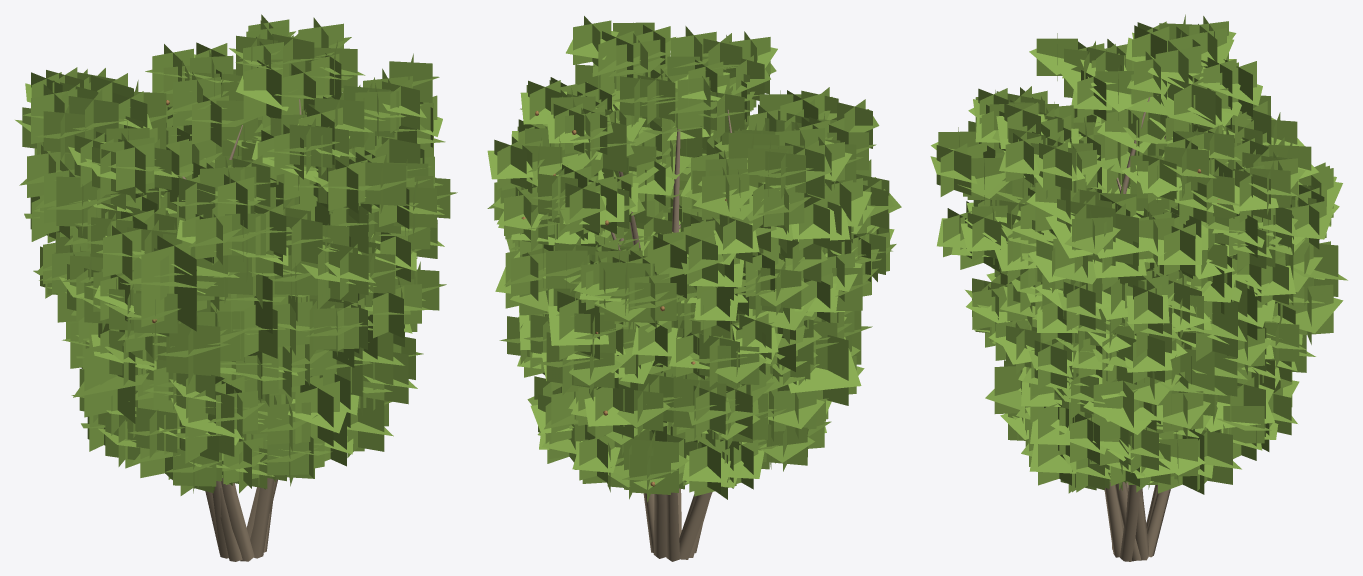
The model's file is noisetier_4_f3_jeu.glb.
The picture shows the model from 3 angles, left to right: view 1: azimuth 30°, elevation 25°; view 2: azimuth 150°, elevation 25°; view 3: azimuth 270°, elevation 25°; orthographic projection. The views are drawn at different scales.
Visible parts, largest first — view 1: Noisetier_T4_f3_Leger; view 2: Noisetier_T4_f3_Leger; view 3: Noisetier_T4_f3_Leger.
Boxes of the visible parts, x1,y1,x2,y2 form: Noisetier_T4_f3_Leger: (15,14,457,561); Noisetier_T4_f3_Leger: (487,16,901,561); Noisetier_T4_f3_Leger: (930,14,1347,561).
Size of the model in its own units: 5.25 by 6.51 by 5.32.
